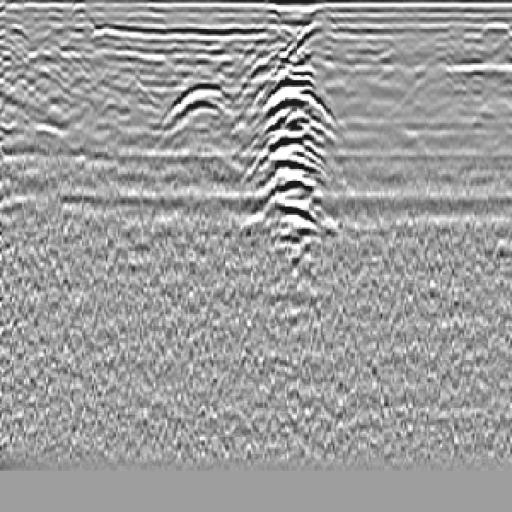metalic: (233, 21, 365, 324)
nonmetalic: (135, 54, 262, 162)
